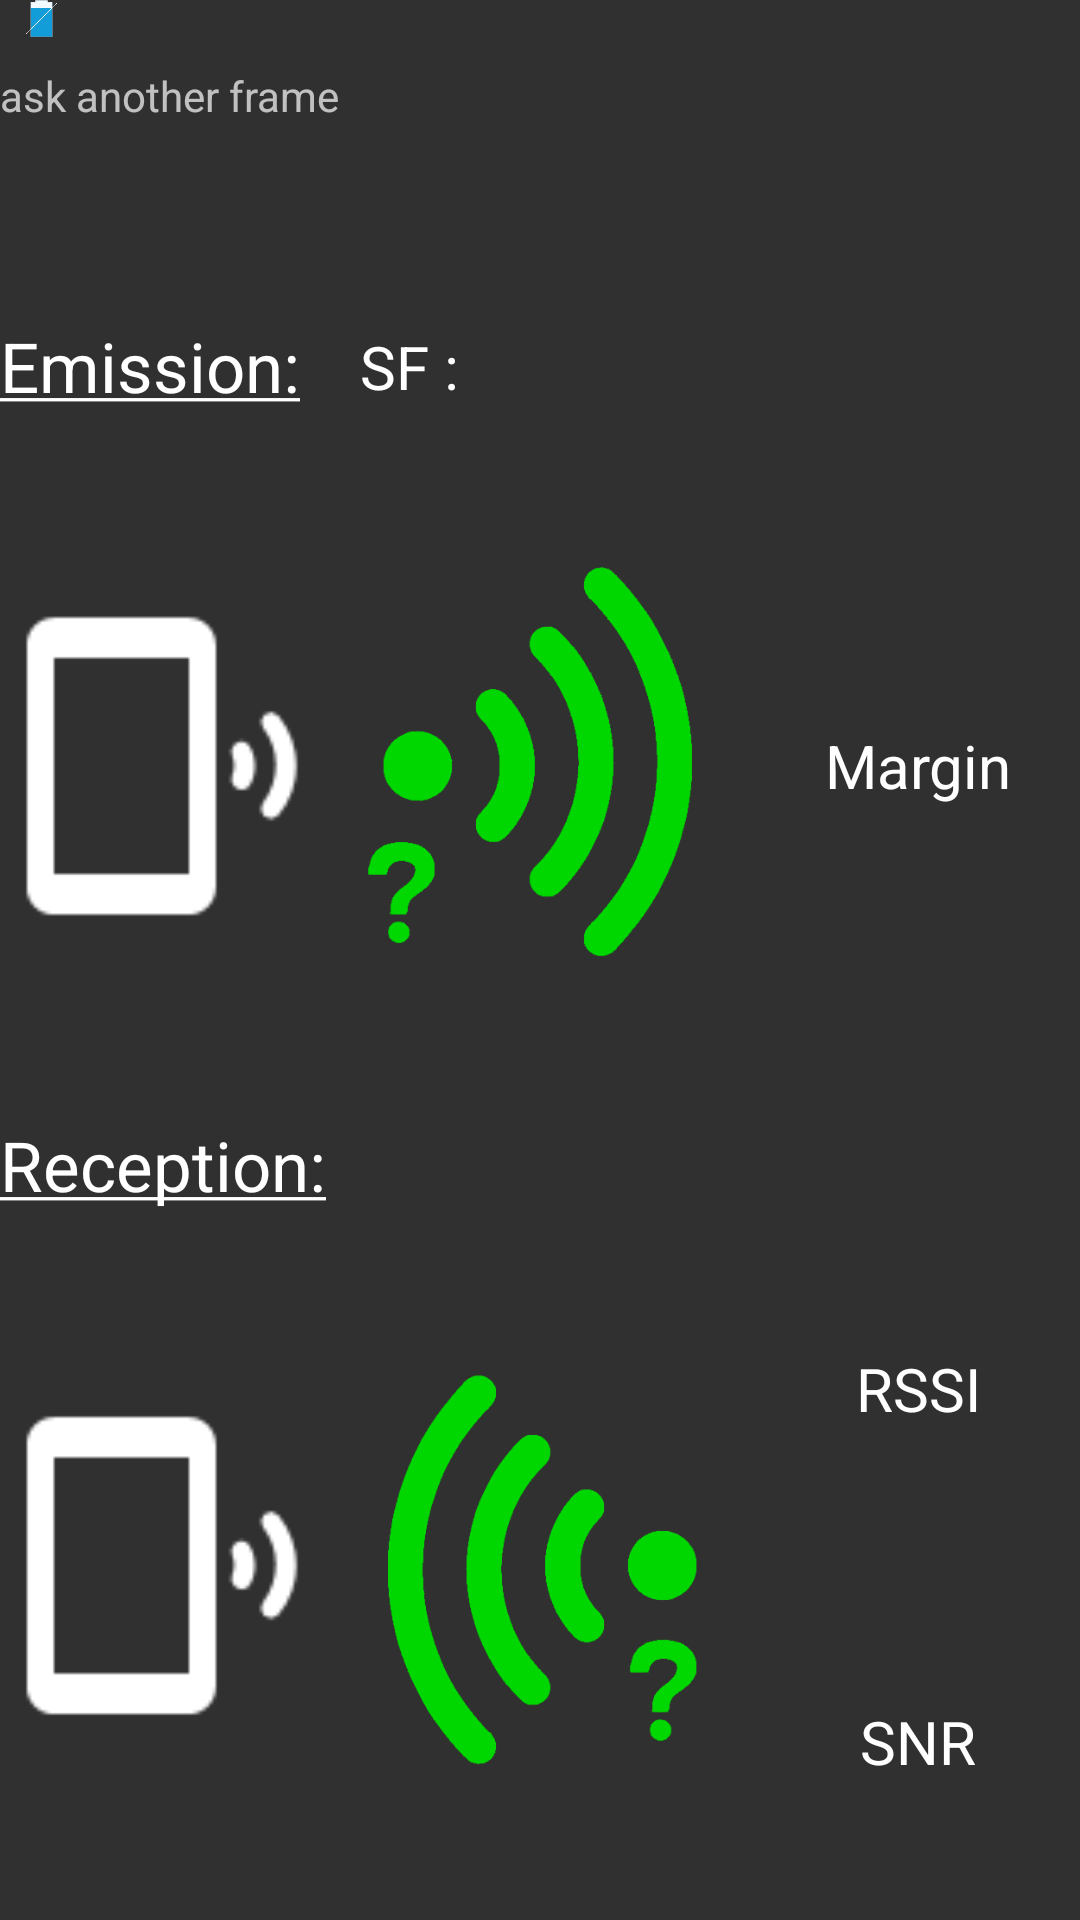

Named icons in this screenshot (1080x1920) and their centers, (x,y):
battery missing: (41,18)
device: (162,766), (162,1565)
